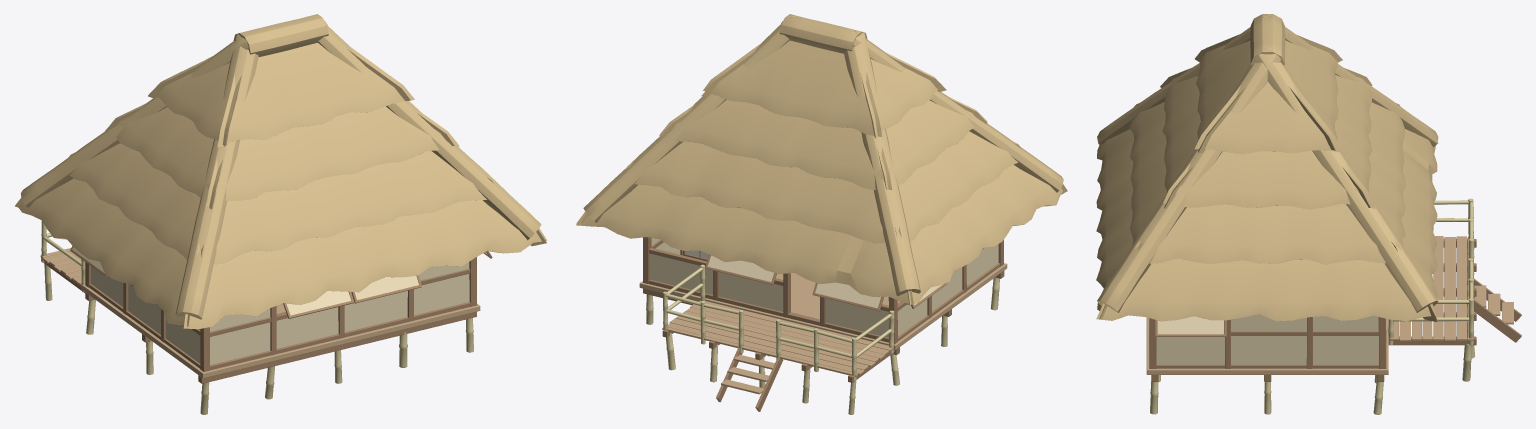
The model's file is house_land_1000.glb.
3 views of the same model, side by side, from view 1: azimuth 30°, elevation 25°; view 2: azimuth 150°, elevation 25°; view 3: azimuth 270°, elevation 25° (orthographic). The views are drawn at different scales.
Parts seen in each view (by area): view 1: land_1000_thatch, land_1000_sawali, land_1000_timber, land_1000_plank, land_1000_bamboo; view 2: land_1000_thatch, land_1000_plank, land_1000_sawali, land_1000_timber, land_1000_bamboo; view 3: land_1000_thatch, land_1000_sawali, land_1000_plank, land_1000_timber, land_1000_bamboo.
Part boxes in pixels (<box>): land_1000_thatch: <box>15,14,547,329</box>; land_1000_sawali: <box>72,247,487,364</box>; land_1000_timber: <box>41,246,492,383</box>; land_1000_plank: <box>40,248,480,378</box>; land_1000_bamboo: <box>41,220,473,414</box>; land_1000_thatch: <box>576,14,1067,304</box>; land_1000_plank: <box>639,263,1007,394</box>; land_1000_sawali: <box>649,238,998,337</box>; land_1000_timber: <box>643,237,1004,411</box>; land_1000_bamboo: <box>646,264,999,414</box>; land_1000_thatch: <box>1096,14,1438,321</box>; land_1000_sawali: <box>1156,314,1378,364</box>; land_1000_plank: <box>1146,236,1513,374</box>; land_1000_timber: <box>1149,239,1521,381</box>; land_1000_bamboo: <box>1150,198,1475,414</box>.
Size of the model in its own units: 10.36 by 8.56 by 10.45.
